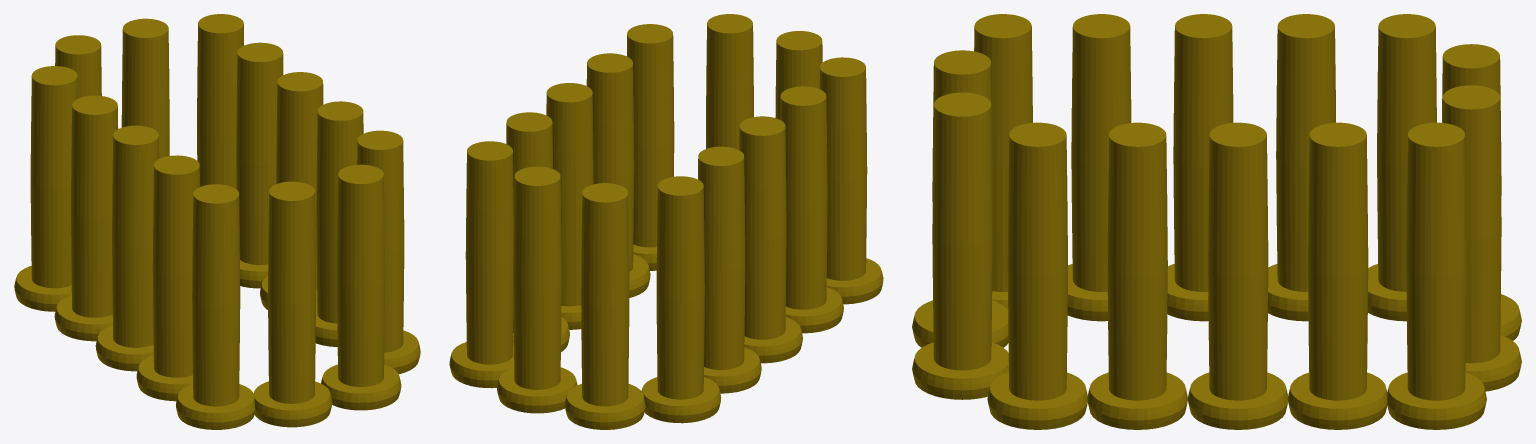
File: P_Columna.obj
3 renders of one model, left to right at view 1: azimuth 30°, elevation 25°; view 2: azimuth 150°, elevation 25°; view 3: azimuth 270°, elevation 25°, orthographic. The views are drawn at different scales.
Parts seen in each view (by area): view 1: P_Columna12, P_Columna1, P_Columna14, P_Columna9, P_Columna10, P_Columna8, P_Columna13, P_Columna4, P_Columna6, P_Columna7, P_Columna2, P_Columna5 (+2 smaller); view 2: P_Columna11, P_Columna8, P_Columna5, P_Columna6, P_Columna10, P_Columna13, P_Columna9, P_Columna12, P_Columna2, P_Columna3, P_Columna7, P_Columna14 (+2 smaller); view 3: P_Columna6, P_Columna7, P_Columna3, P_Columna4, P_Columna2, P_Columna14, P_Columna13, P_Columna10, P_Columna9, P_Columna8, P_Columna5, P_Columna12 (+2 smaller).
Boxes of the visible parts, left/top/right/bottom form: P_Columna12: left=176, top=184, right=255, bottom=429; P_Columna1: left=253, top=181, right=332, bottom=427; P_Columna14: left=321, top=164, right=401, bottom=410; P_Columna9: left=54, top=95, right=118, bottom=341; P_Columna10: left=95, top=125, right=159, bottom=371; P_Columna8: left=14, top=66, right=77, bottom=311; P_Columna13: left=136, top=155, right=199, bottom=401; P_Columna4: left=236, top=42, right=283, bottom=288; P_Columna6: left=197, top=14, right=243, bottom=189; P_Columna7: left=315, top=101, right=363, bottom=346; P_Columna2: left=357, top=130, right=420, bottom=374; P_Columna5: left=121, top=18, right=169, bottom=158; P_Columna11: left=564, top=183, right=645, bottom=429; P_Columna8: left=641, top=176, right=721, bottom=423; P_Columna5: left=497, top=166, right=577, bottom=413; P_Columna6: left=449, top=141, right=514, bottom=388; P_Columna10: left=739, top=116, right=802, bottom=363; P_Columna13: left=780, top=86, right=843, bottom=333; P_Columna9: left=698, top=146, right=761, bottom=393; P_Columna12: left=819, top=57, right=883, bottom=304; P_Columna2: left=627, top=24, right=674, bottom=270; P_Columna3: left=546, top=83, right=593, bottom=329; P_Columna7: left=586, top=53, right=650, bottom=297; P_Columna14: left=706, top=14, right=753, bottom=149; P_Columna6: left=1387, top=122, right=1486, bottom=429; P_Columna7: left=1087, top=122, right=1187, bottom=429; P_Columna3: left=1188, top=122, right=1288, bottom=429; P_Columna4: left=1288, top=122, right=1387, bottom=429; P_Columna2: left=987, top=122, right=1087, bottom=429; P_Columna14: left=912, top=92, right=1008, bottom=399; P_Columna13: left=1067, top=14, right=1131, bottom=321; P_Columna10: left=1167, top=14, right=1233, bottom=321; P_Columna9: left=1268, top=14, right=1335, bottom=321; P_Columna8: left=1368, top=14, right=1436, bottom=321; P_Columna5: left=1442, top=85, right=1521, bottom=391; P_Columna12: left=974, top=14, right=1032, bottom=309.
Size of the model in its own units: 7.09 by 6 by 12.07.
